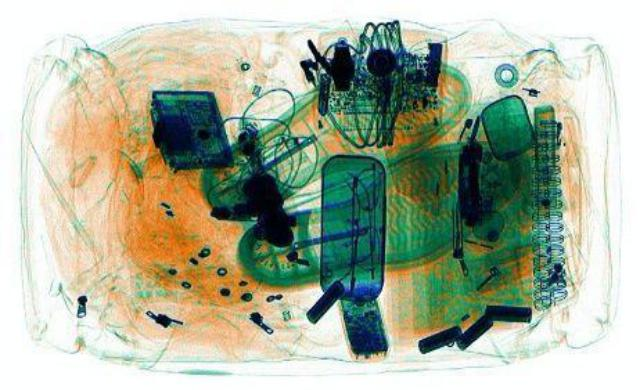Gun: (208, 167, 300, 245)
